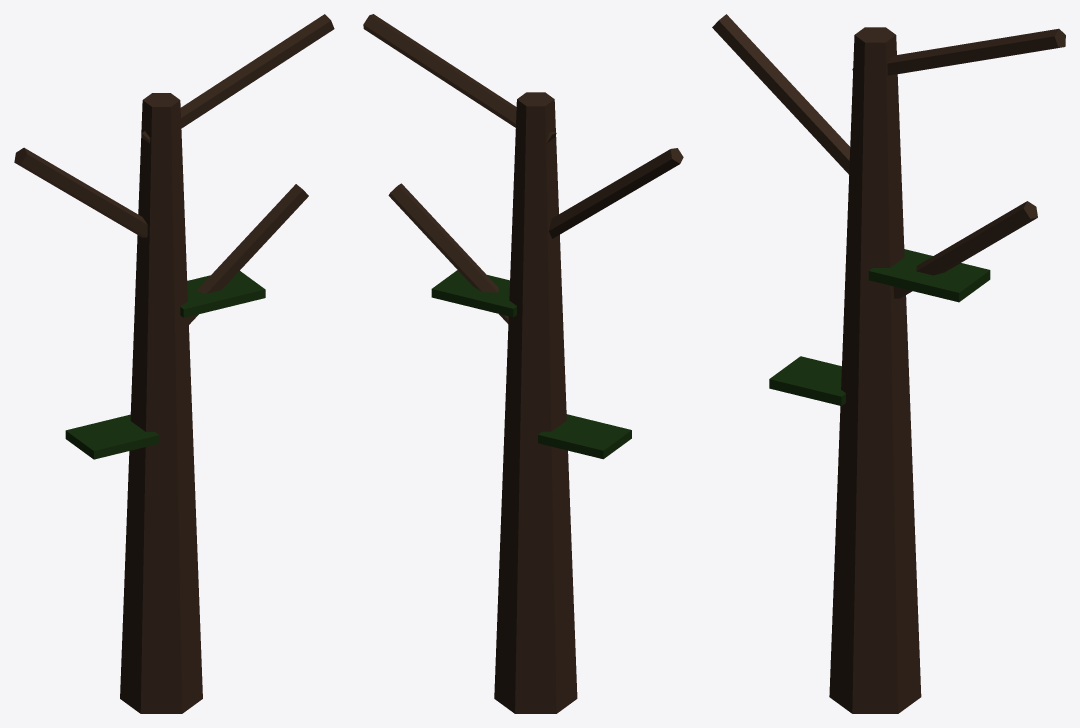
File: swamp_tree_dead.obj
3 renders of one model, left to right at view 1: azimuth 30°, elevation 25°; view 2: azimuth 150°, elevation 25°; view 3: azimuth 330°, elevation 25°, orthographic. The views are drawn at different scales.
Visible parts, largest first — view 1: swamp_tree_dead; view 2: swamp_tree_dead; view 3: swamp_tree_dead.
Part boxes in pixels (x1=…): swamp_tree_dead: x1=14, y1=14, x2=334, y2=713; swamp_tree_dead: x1=363, y1=14, x2=683, y2=713; swamp_tree_dead: x1=712, y1=14, x2=1065, y2=713.
Size of the model in its own units: 1.93 by 3.76 by 0.44.
